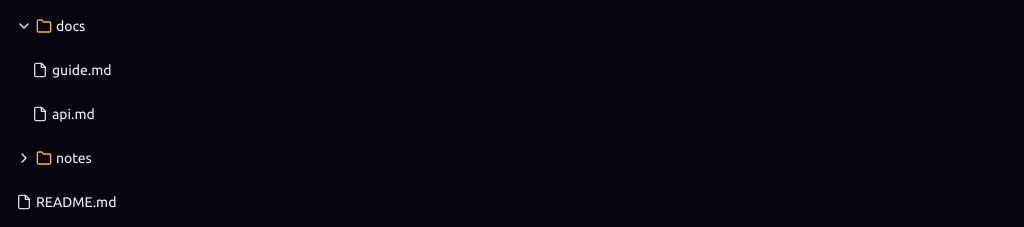
Test: FileTree › directory expansion › collapses expanded directory on click
Expected: the text "guide.md" is shown, [52,62,112,78]
// Click to collapse
Click the button "docs" at (24, 26), box [4,4,1020,48]
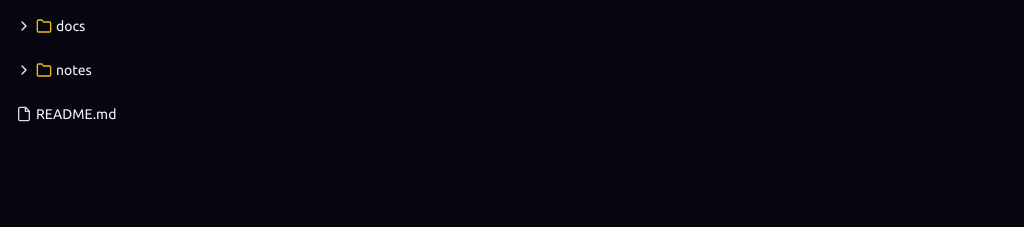
Expected: the button "guide.md" is gone
